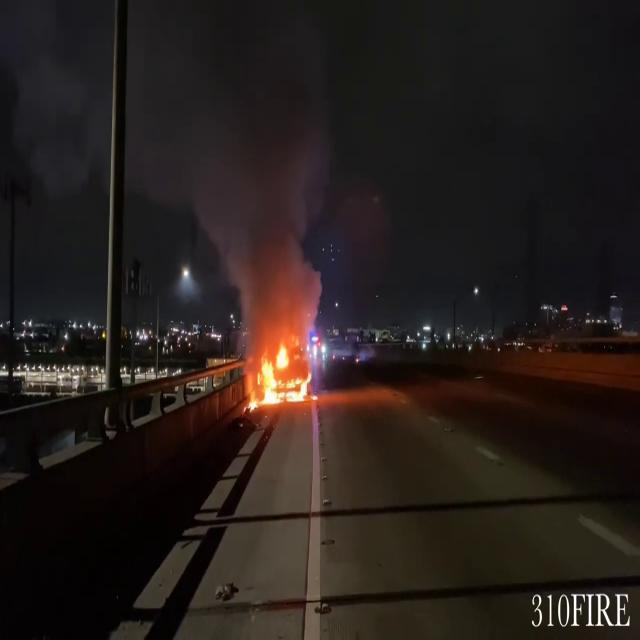Fire: (247, 337, 315, 410)
Smoke: (149, 1, 336, 334)
